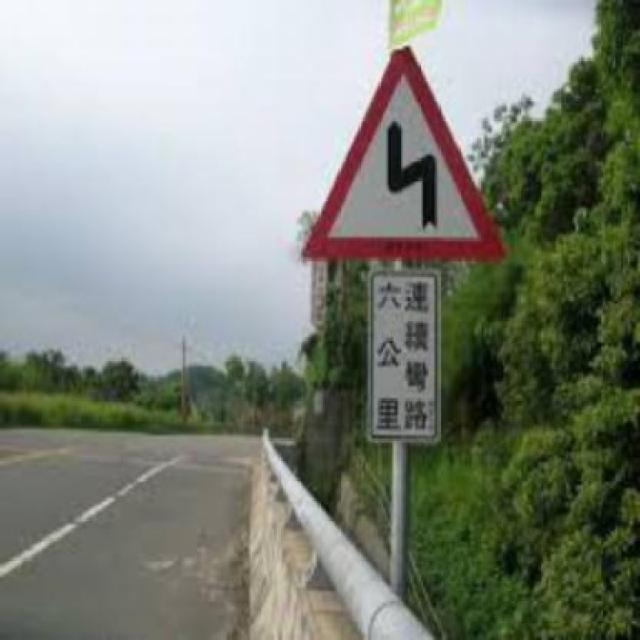warn_double_curve: (304, 46, 505, 263)
